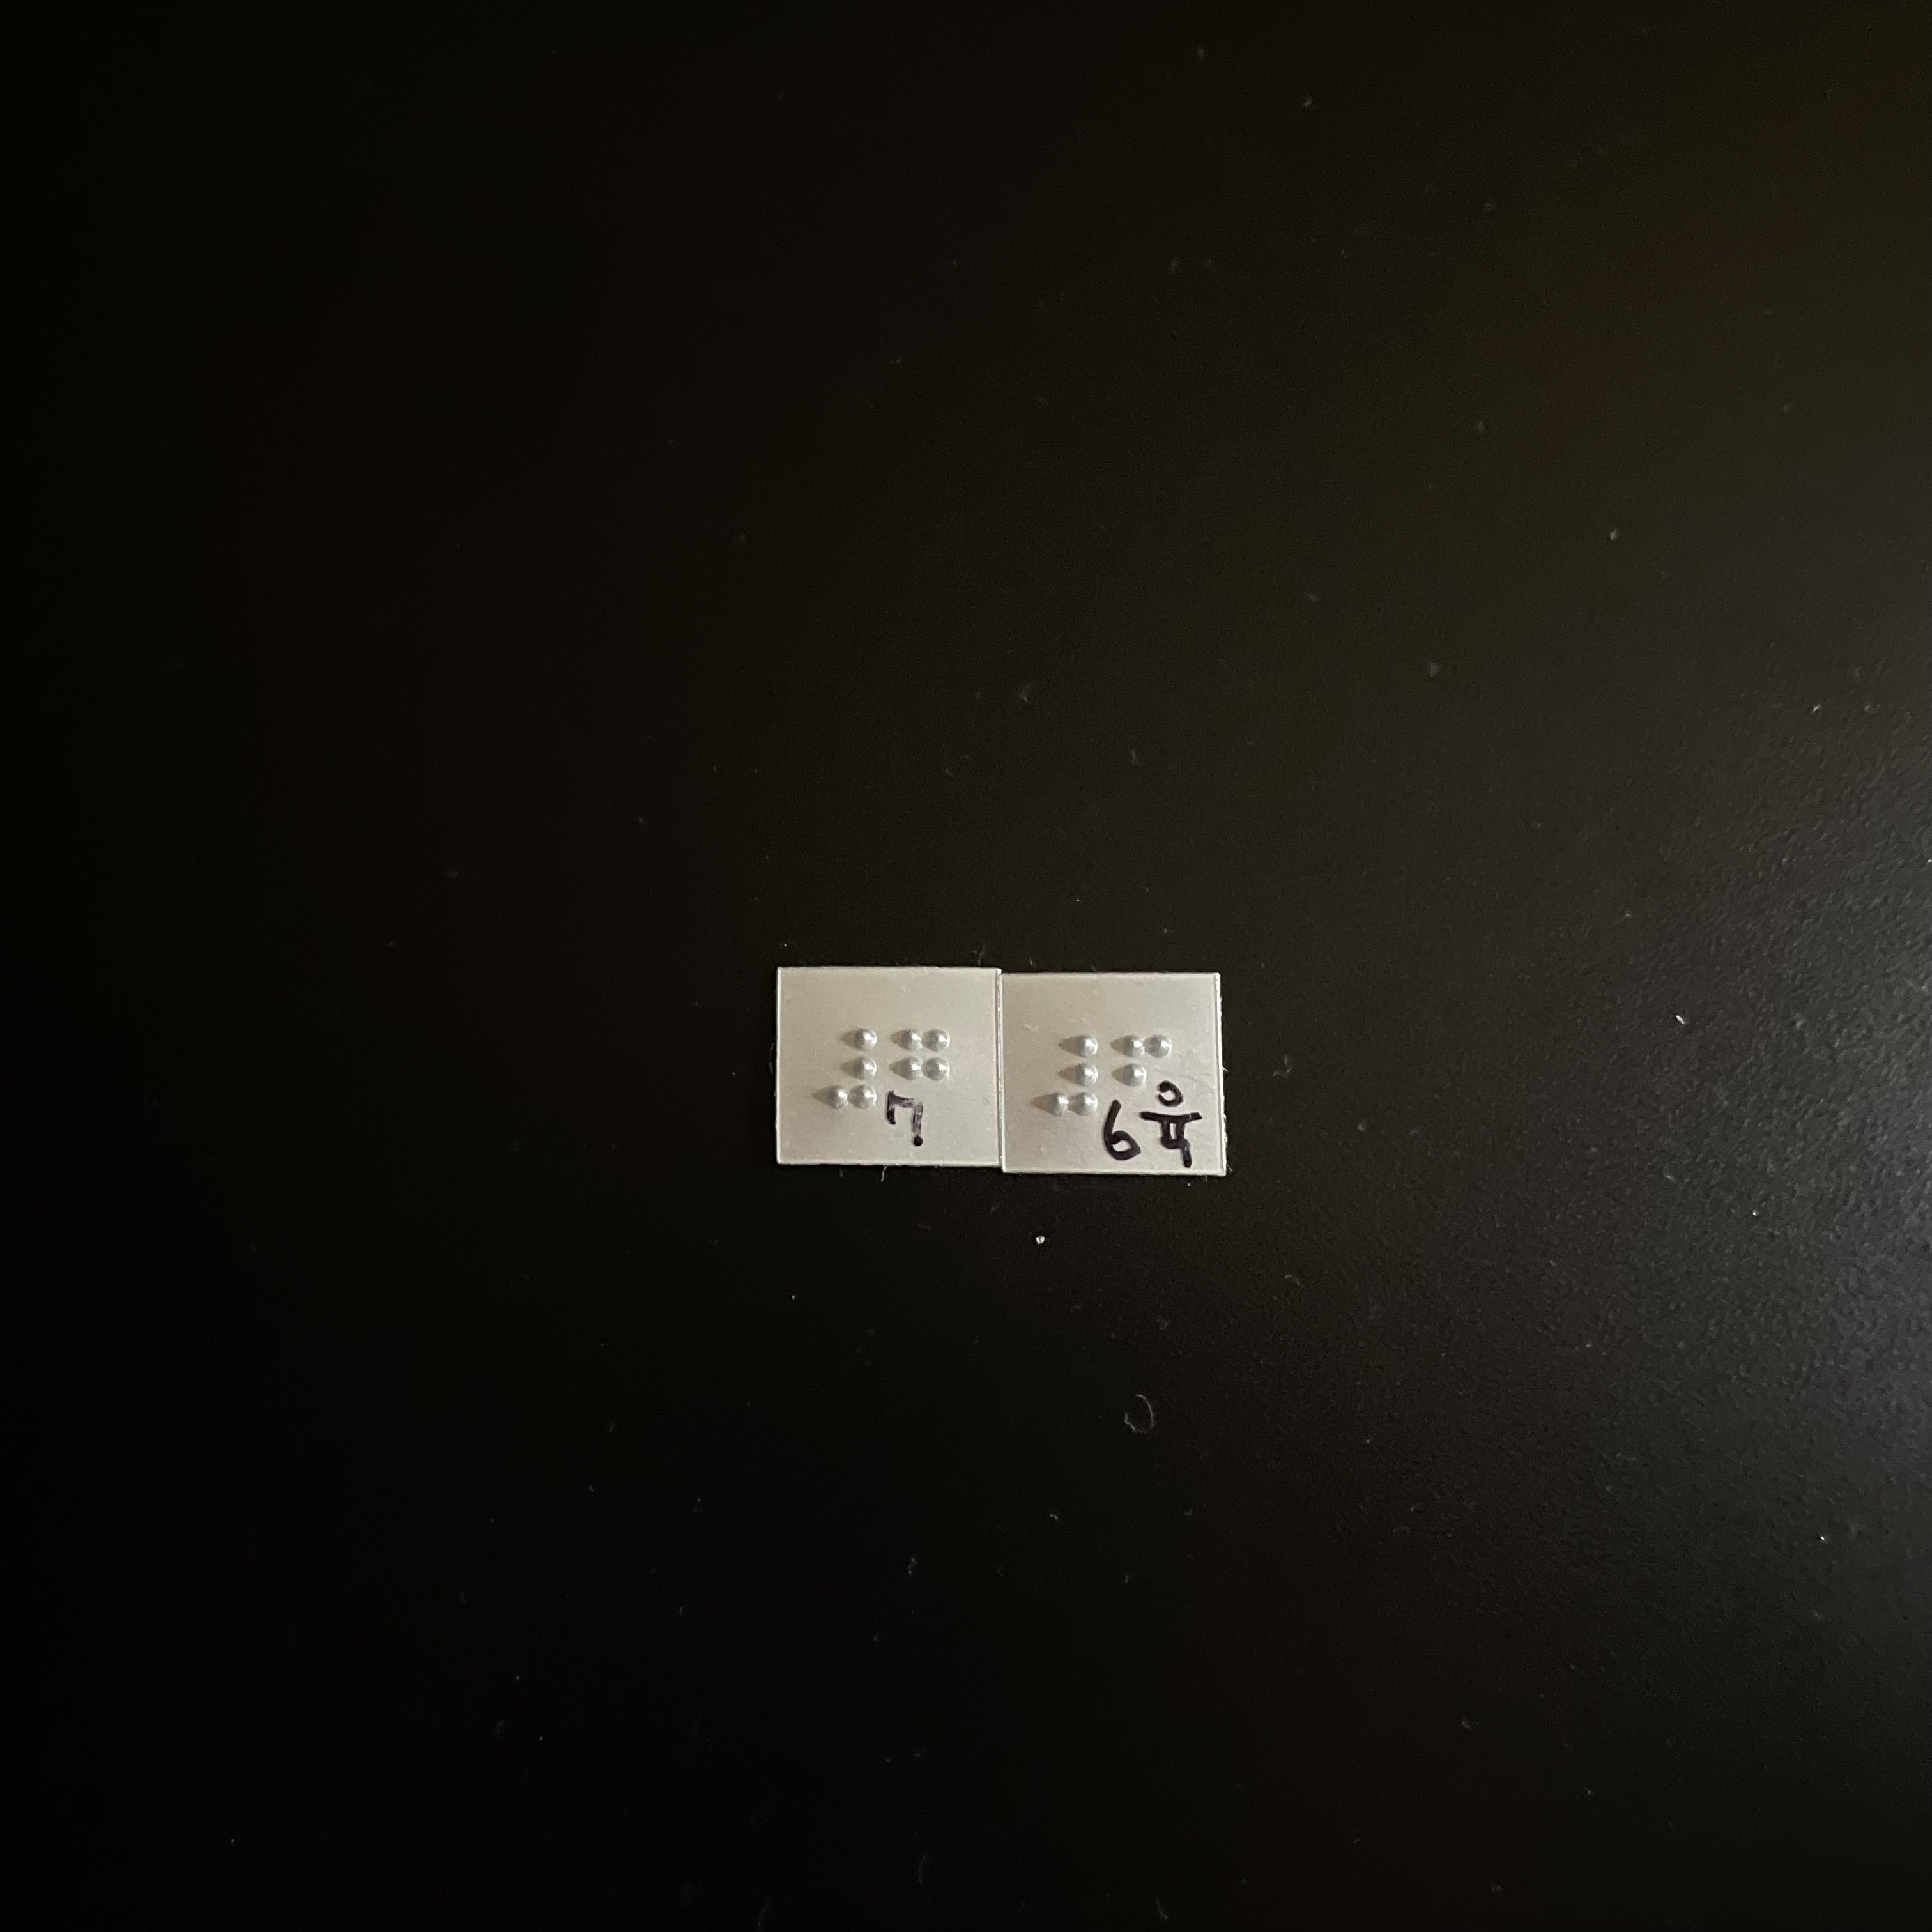#: (1034, 1027, 1111, 1123), (818, 1022, 882, 1117)
f: (1108, 1024, 1177, 1126)
g: (884, 1022, 954, 1121)
